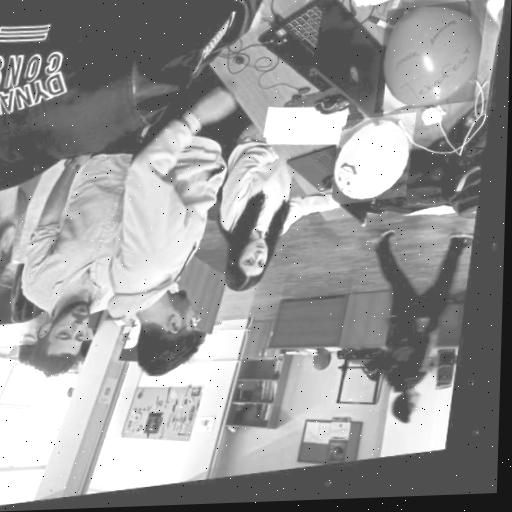balloon: (377, 6, 488, 120), (334, 119, 420, 212)
